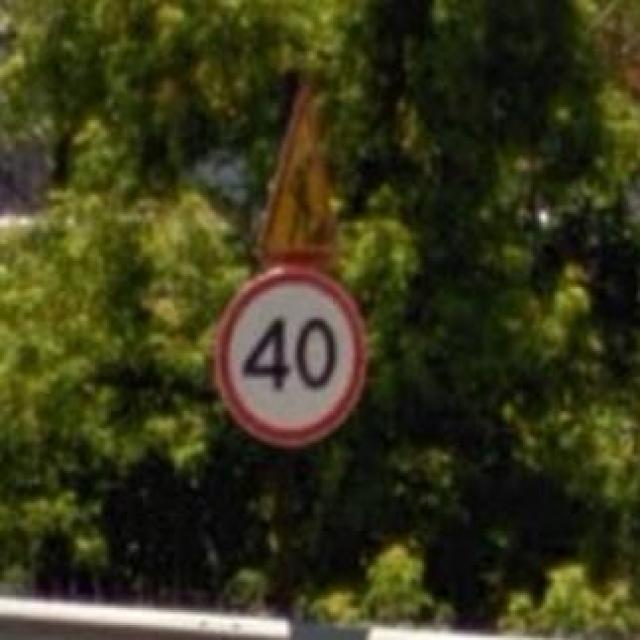traffic_sign: (214, 266, 367, 448), (258, 86, 342, 263)
